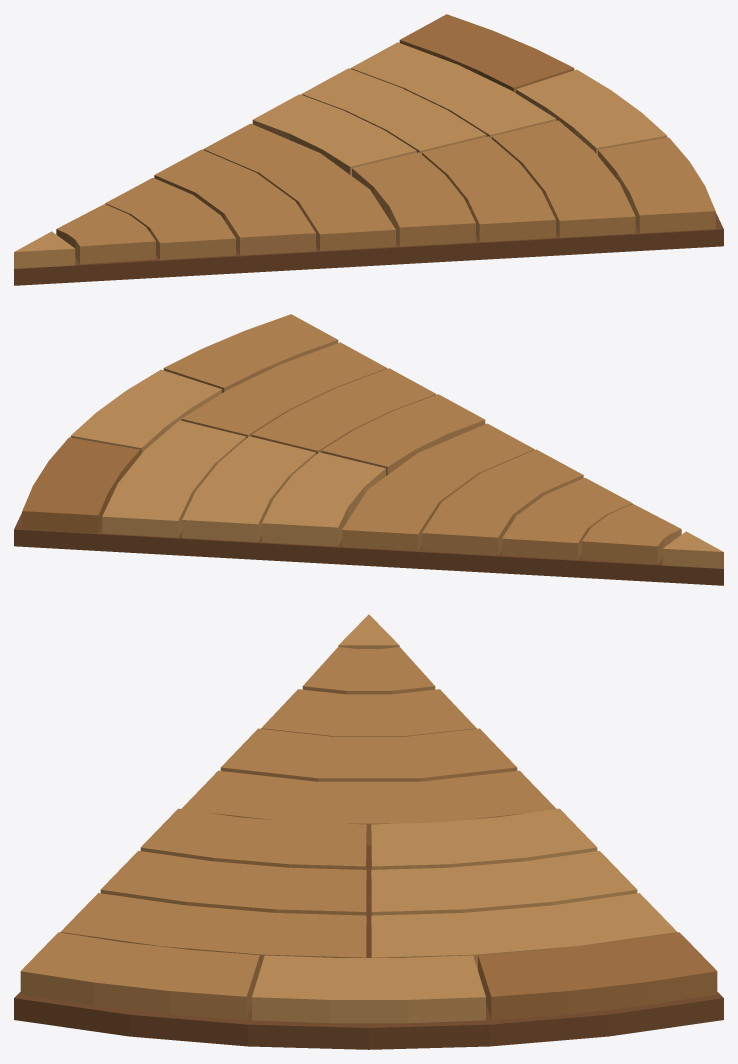
File: mod_floor_sector_r2.31_45.glb
The picture shows the model from 3 angles, top to bottom: view 1: azimuth 30°, elevation 25°; view 2: azimuth 150°, elevation 25°; view 3: azimuth 270°, elevation 25°; orthographic projection. The views are drawn at different scales.
Visible parts, largest first — view 1: mod_floor_sector_r2.31_45; view 2: mod_floor_sector_r2.31_45; view 3: mod_floor_sector_r2.31_45.
Boxes of the visible parts, bbox=[...] form: mod_floor_sector_r2.31_45: bbox=[14, 14, 723, 285]; mod_floor_sector_r2.31_45: bbox=[14, 314, 723, 585]; mod_floor_sector_r2.31_45: bbox=[14, 614, 723, 1049].
Bounding box in the file's own units: 2.31 × 0.128 × 1.77.
